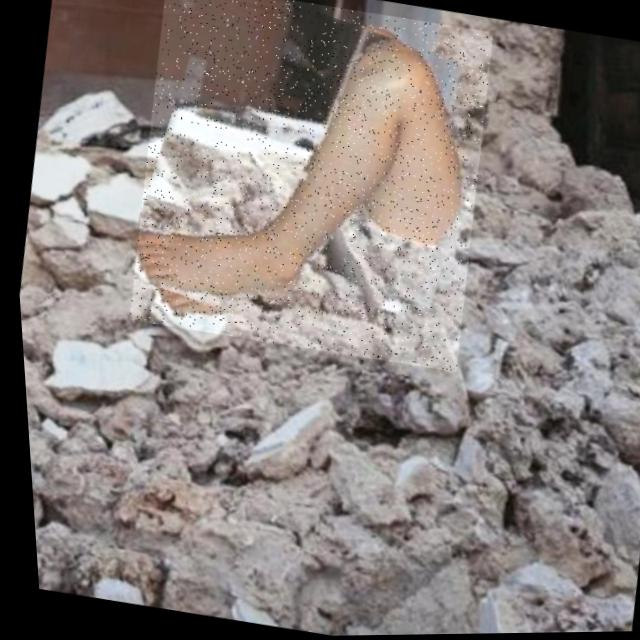Person in Rubble: (107, 0, 510, 377)
